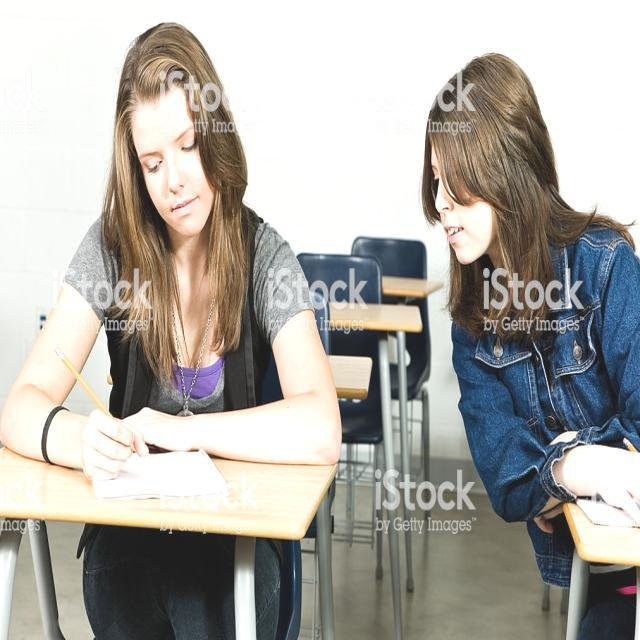cheating: (402, 46, 640, 537)
good: (6, 19, 357, 508)
